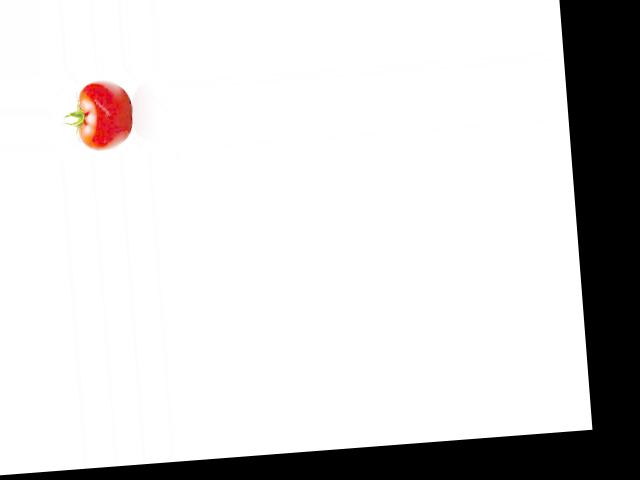tomato: (75, 77, 134, 152)
